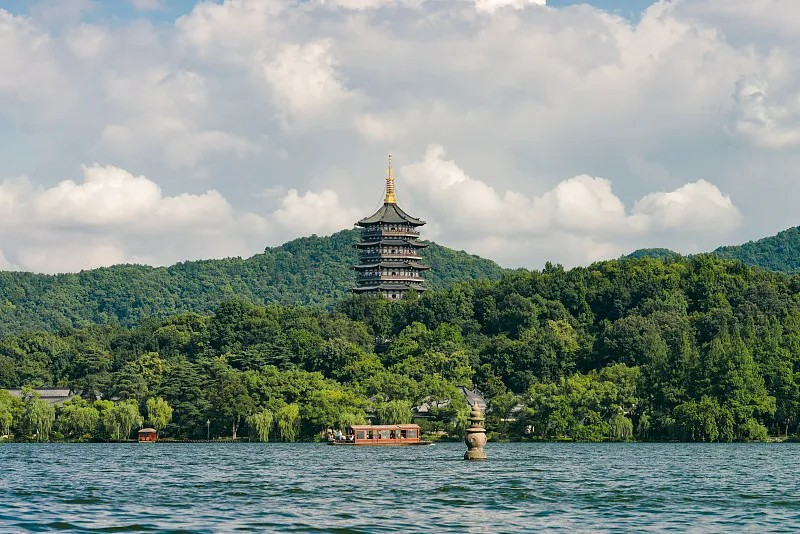Leifeng: (349, 152, 430, 302)
